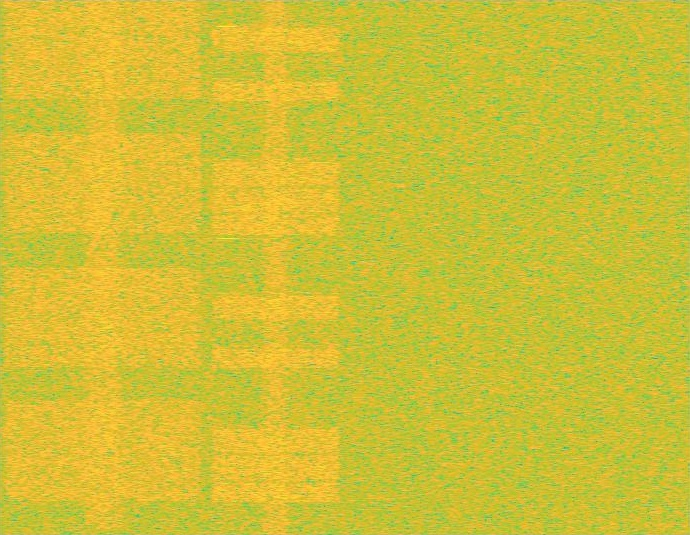5G: (0, 0, 207, 534)
DSSS: (80, 0, 127, 534), (260, 0, 292, 534)
LTE: (207, 0, 345, 534)
Radar: (221, 0, 234, 534)
